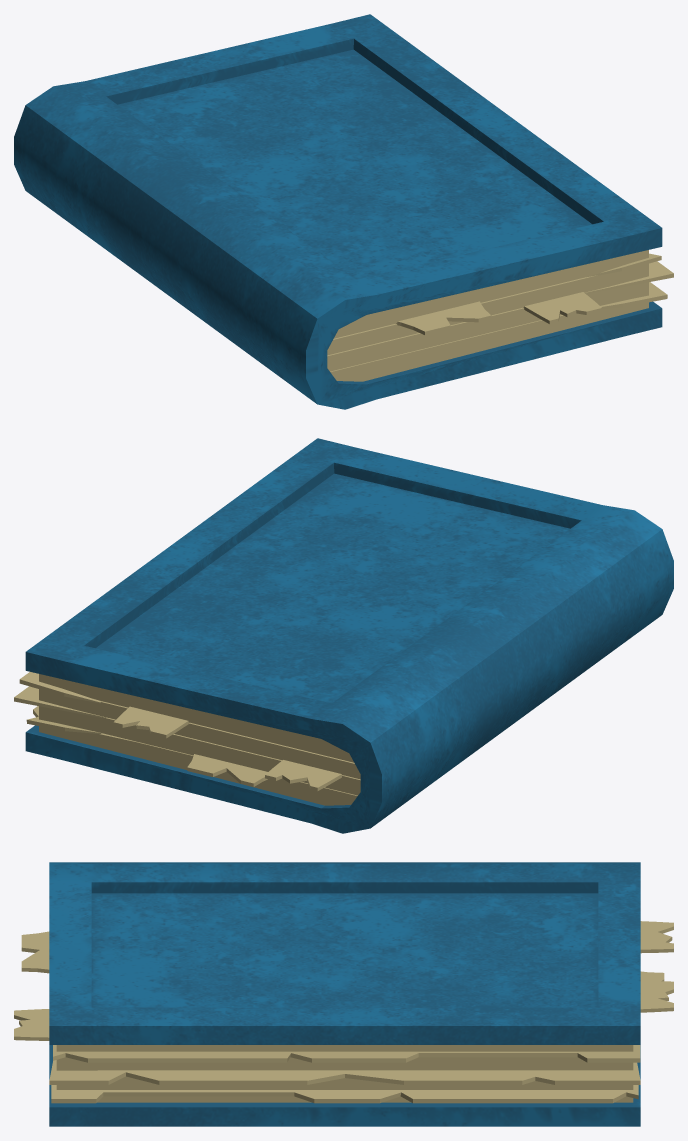
Rendered from book_blue_1.fbx.
3 renders of one model, top to bottom at view 1: azimuth 30°, elevation 25°; view 2: azimuth 150°, elevation 25°; view 3: azimuth 270°, elevation 25°, orthographic.
Parts seen in each view (by area): view 1: Plane.019; view 2: Plane.019; view 3: Plane.019.
Part boxes in pixels (x1,y1,x2,y2): Plane.019: (14, 14, 673, 409); Plane.019: (14, 438, 673, 833); Plane.019: (14, 862, 673, 1126).
Bounding box in the file's own units: 223 × 63.43 × 341.
